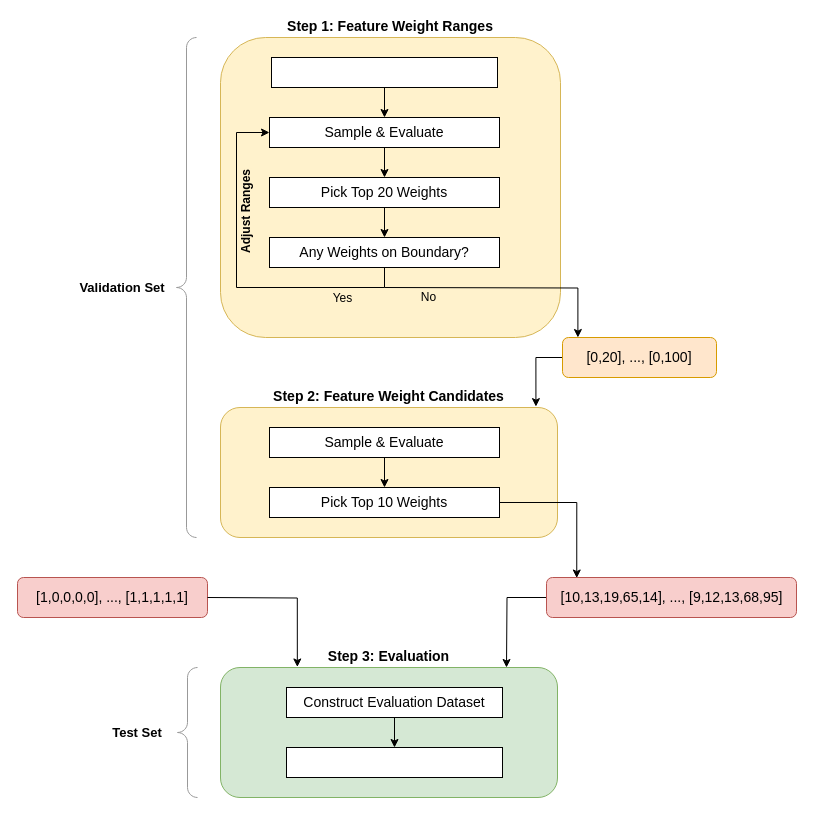
This 814x815 diagram has some shape labels left out. The box of each missing label's shape, as (x1, y1, x2, y2) in pixels:
Baseline Candidates: (16, 576, 208, 618)
Exhaustive Evaluation: (286, 746, 502, 778)
Initialize Weight Ranges: (270, 56, 498, 88)
Selected Candidates: (546, 576, 796, 618)
Selected Ranges: (562, 336, 716, 378)
